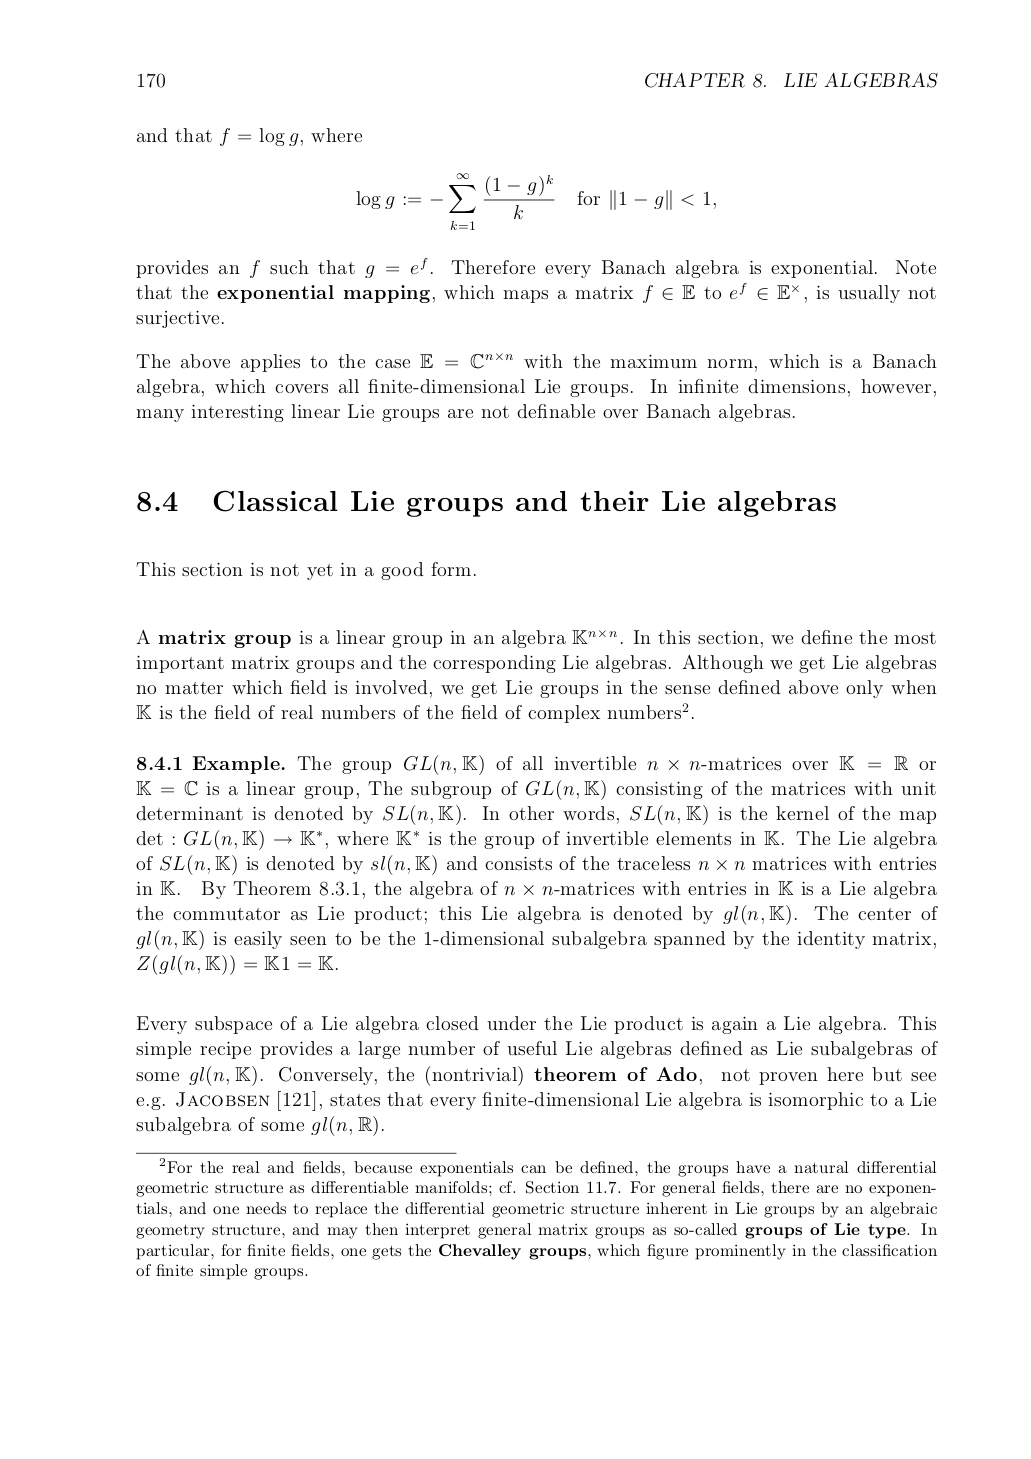formula: (356, 173, 715, 229)
